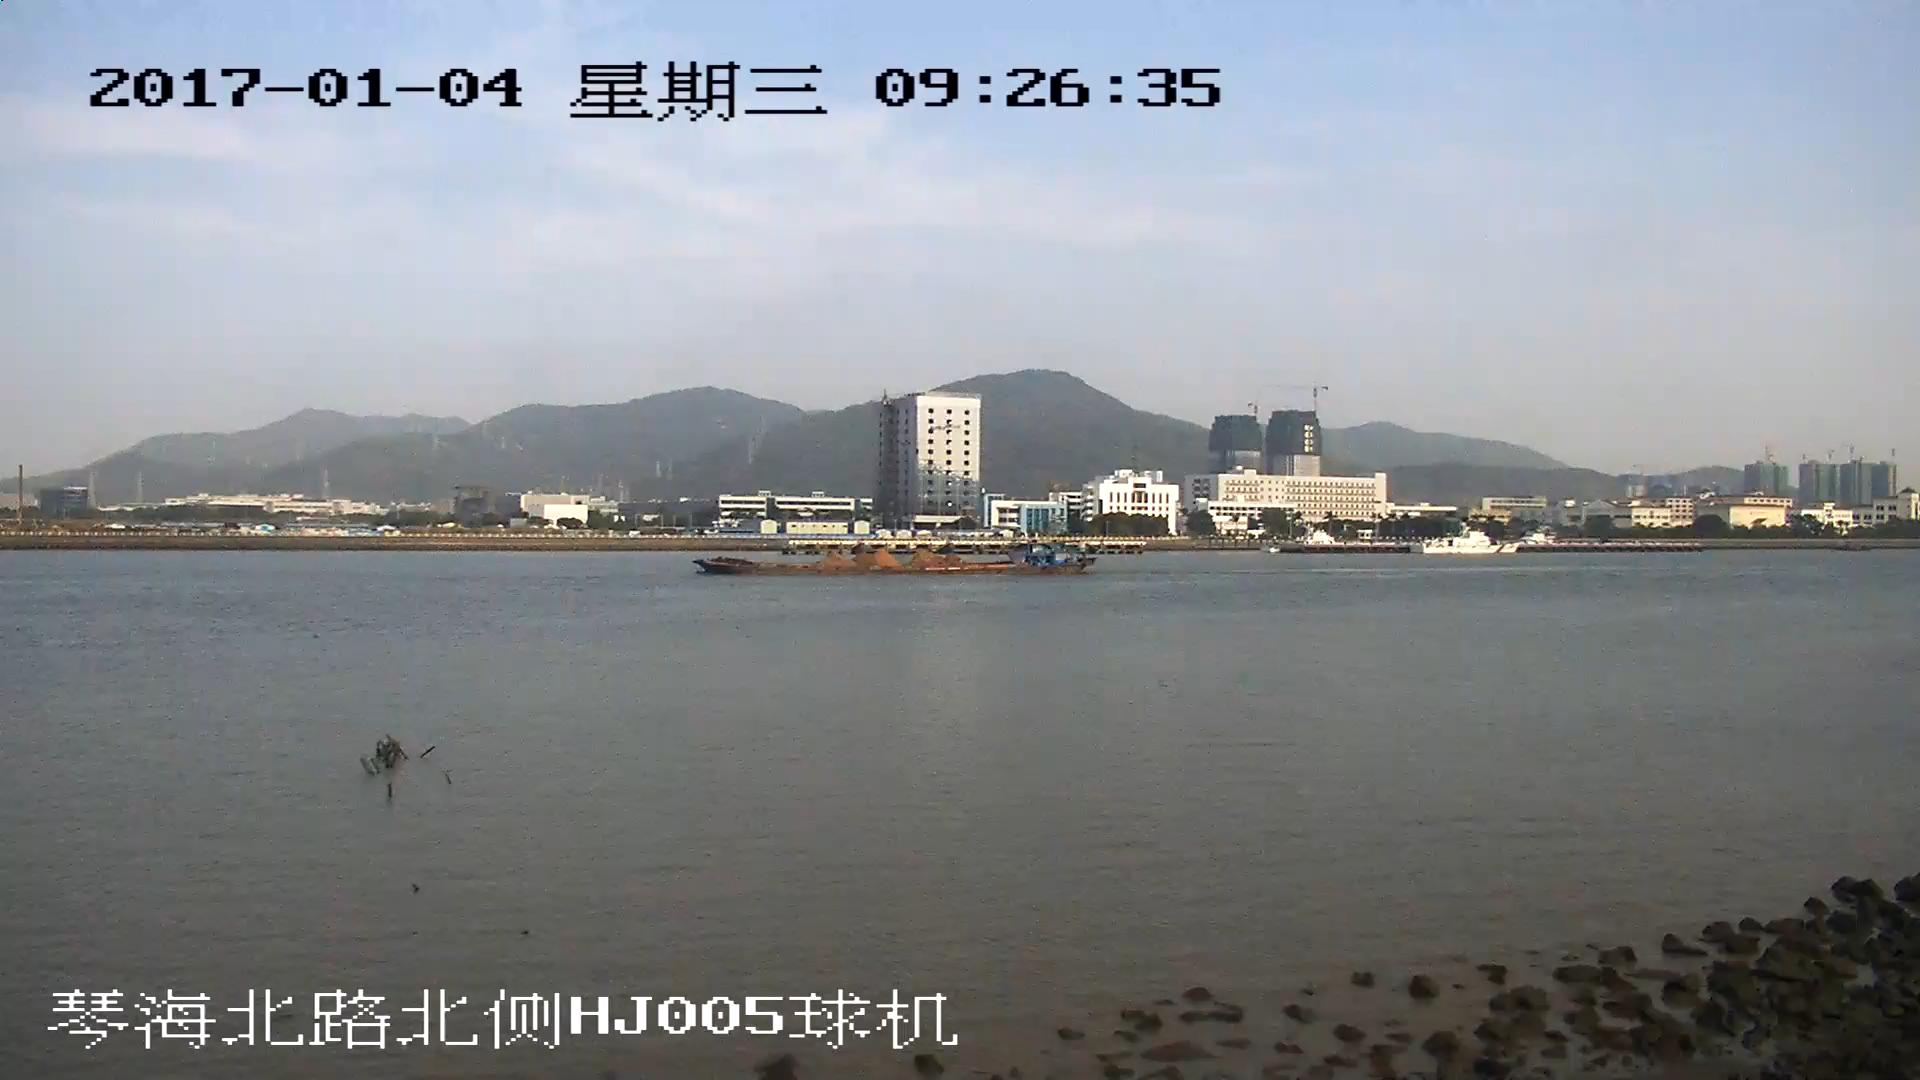ore carrier: (685, 540, 1098, 577)
